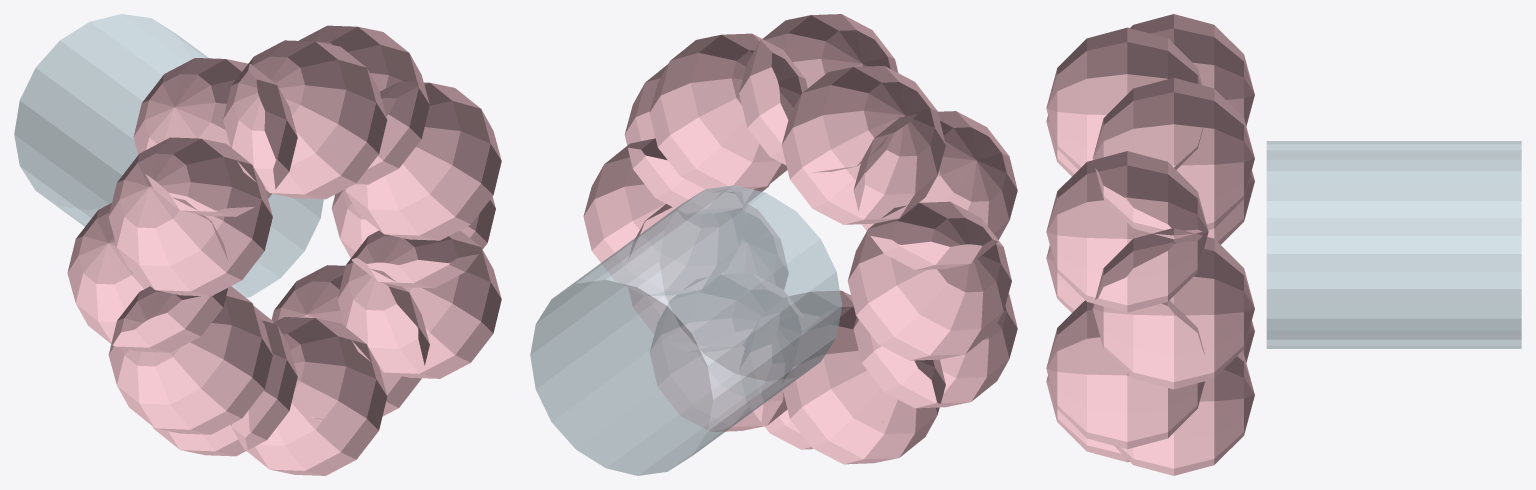
The model's file is flower_centerpiece.glb.
The picture shows the model from 3 angles, left to right: view 1: azimuth 30°, elevation 25°; view 2: azimuth 150°, elevation 25°; view 3: azimuth 270°, elevation 25°; orthographic projection.
Visible parts, largest first — view 1: blossom (×12), vase; view 2: blossom (×12), vase; view 3: blossom (×10), vase.
Boxes of the visible parts, x1,y1,x2,y2 form: blossom (×12): (67,25,501,475); vase: (14,14,323,297); blossom (×12): (583,14,1017,464); vase: (530,185,842,475); blossom (×10): (1046,14,1254,475); vase: (1266,141,1521,348).
Bounding box in the file's own units: 0.4 × 0.4 × 0.41.
